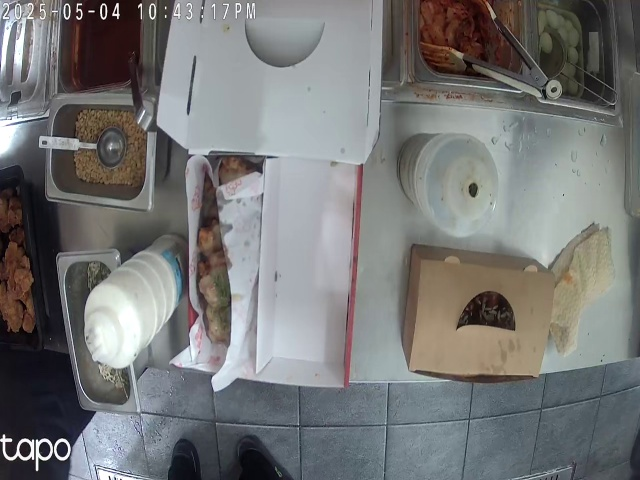closed delivery box: (412, 242, 545, 385)
delivery box: (180, 15, 375, 375)
food: (192, 149, 255, 374)
